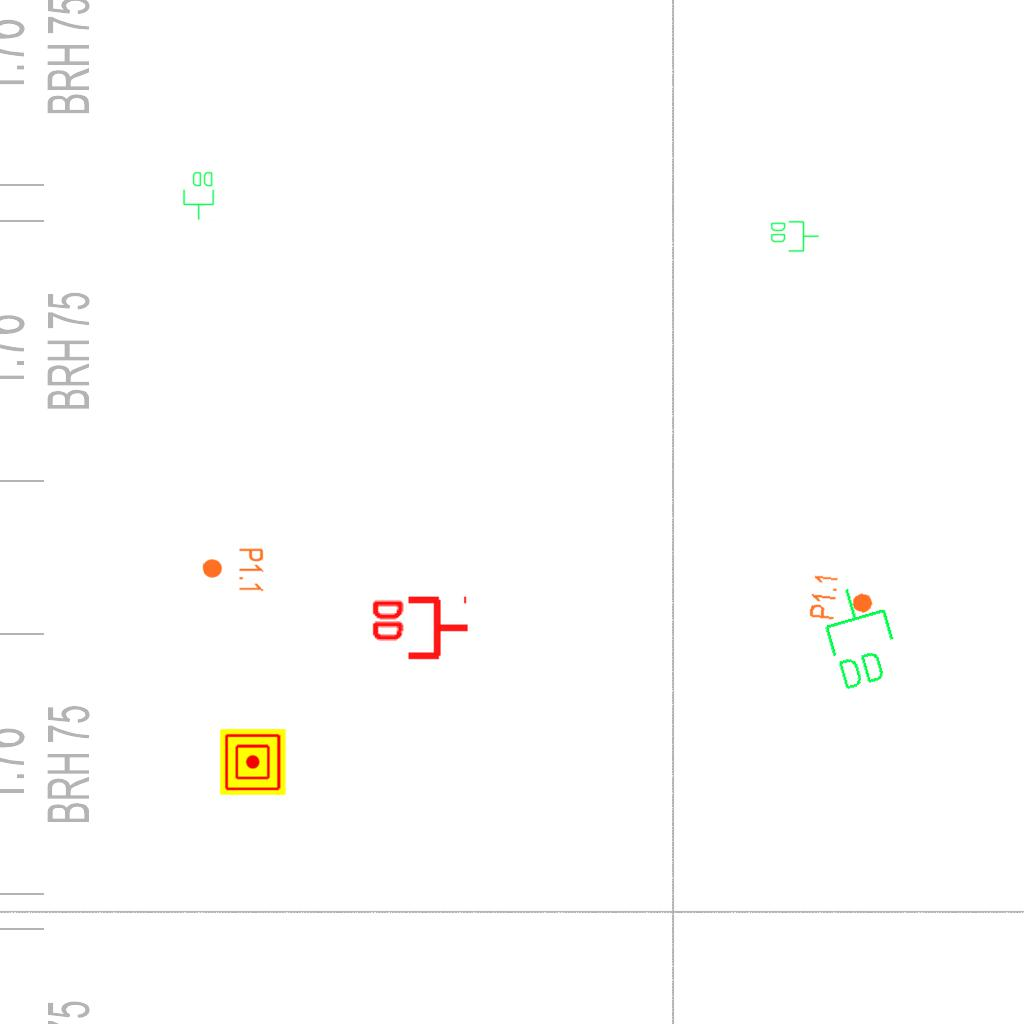Datenanschluss_zweifach: (812, 577, 907, 696), (368, 595, 471, 664), (182, 170, 216, 221), (769, 219, 820, 253)
Downlight_LED_Einbauleuchten_Flur: (807, 572, 877, 626), (200, 546, 266, 594)
NAM-Nichtautomatischer_Melder: (220, 729, 286, 795)
